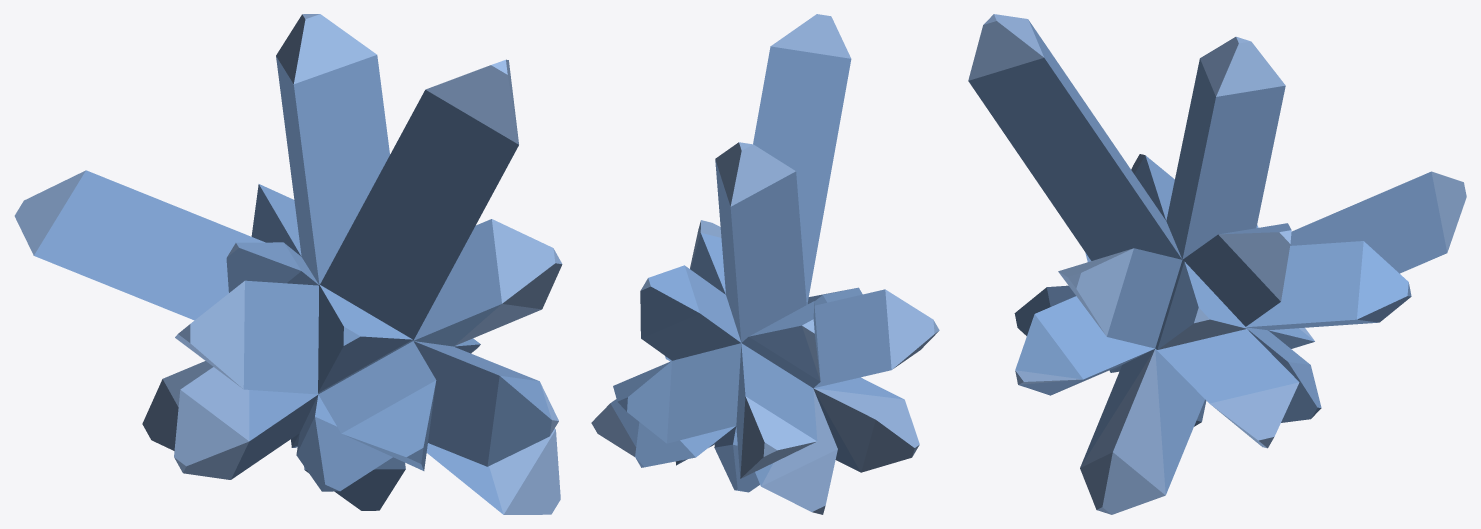
Rendered from crystal_18.fbx.
3 renders of one model, left to right at view 1: azimuth 30°, elevation 25°; view 2: azimuth 150°, elevation 25°; view 3: azimuth 270°, elevation 25°, orthographic. The views are drawn at different scales.
Parts seen in each view (by area): view 1: crystal_18; view 2: crystal_18; view 3: crystal_18.
Boxes of the visible parts, x1=… form: crystal_18: x1=14, y1=14, x2=562, y2=514; crystal_18: x1=591, y1=14, x2=939, y2=514; crystal_18: x1=968, y1=14, x2=1466, y2=514.
Size of the model in its own units: 101 by 139 by 140.
